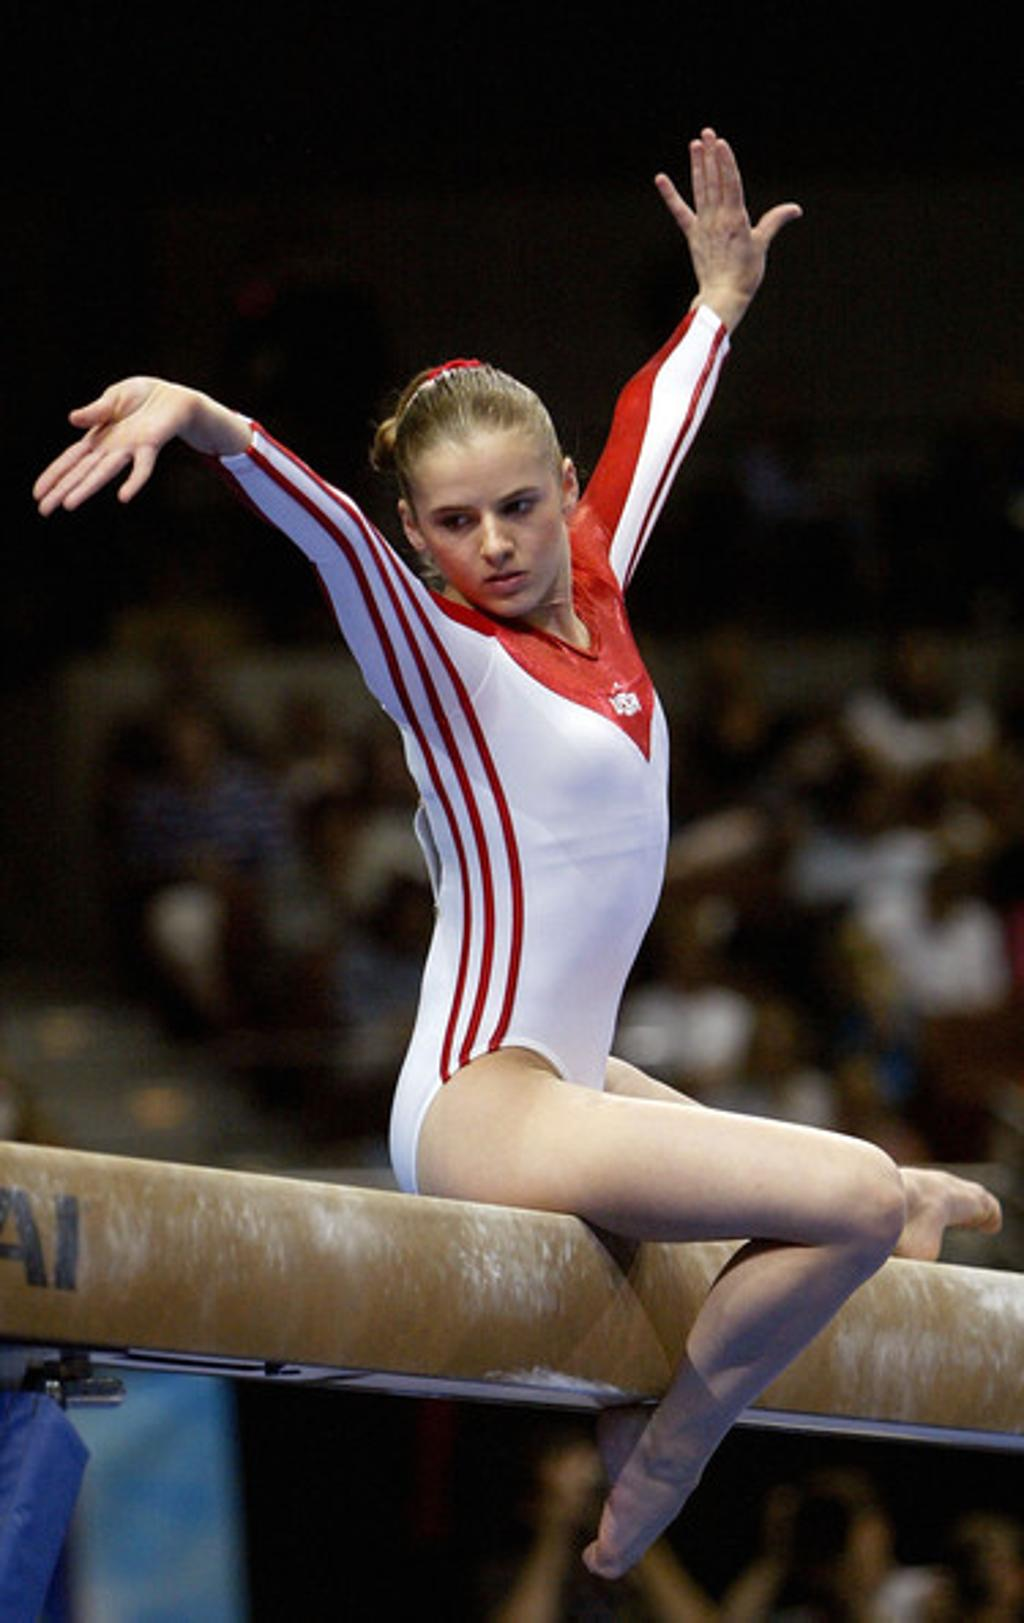face: (406, 418, 552, 621)
